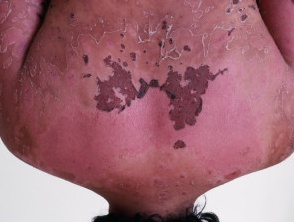SJS-TEN: (0, 0, 293, 207)
